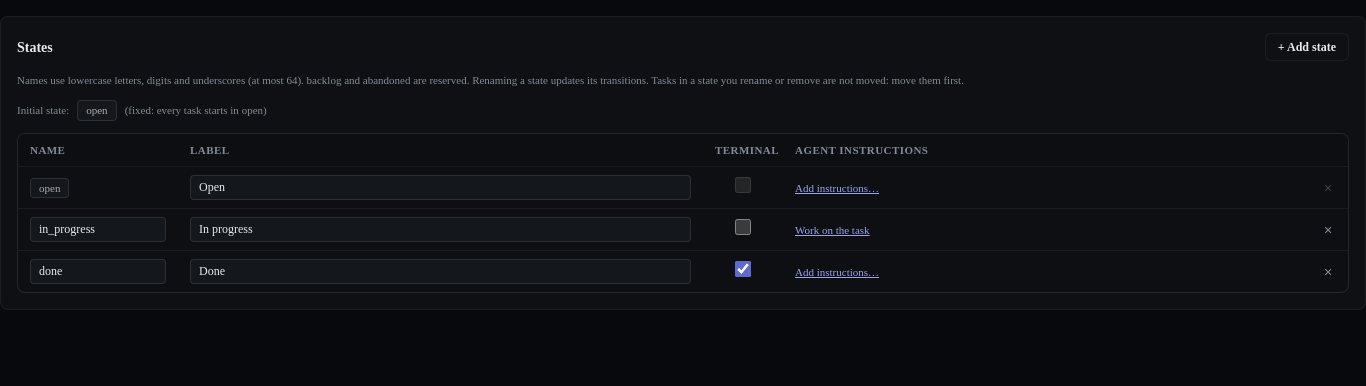
StatesTable: name validation (mirrors the backend) › clicking a remove button drops a pending invalid name (row indexes shift)
Replace the text in the field named "State name for row 2" with "QA" at (98, 230), box [30,217,166,242]
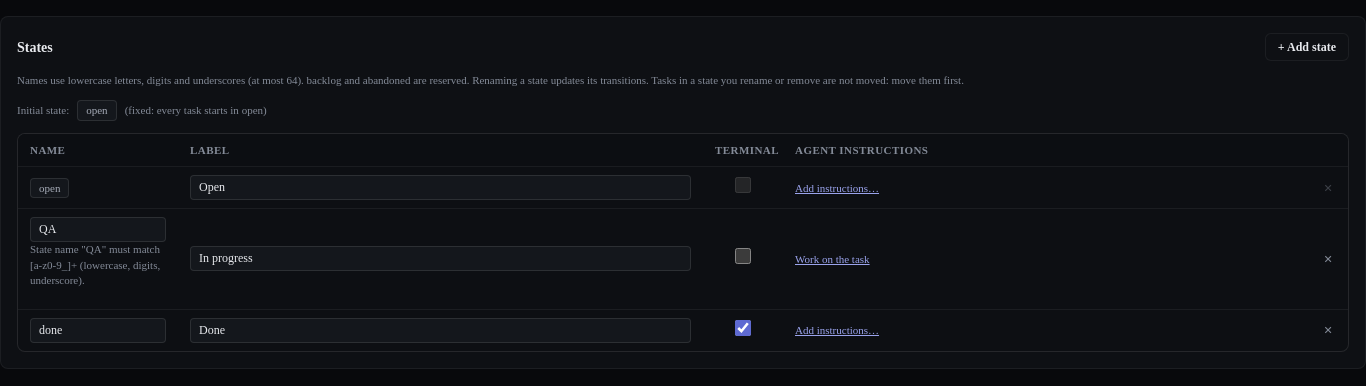
Expected: the message "State name \"QA\" must match [a-z0-9_]+ (lowercase, digits, underscore)." is shown, [30,242,166,289]
Click the 3rd button titled "Remove state done" at (1328, 331), box [1323,324,1333,337]
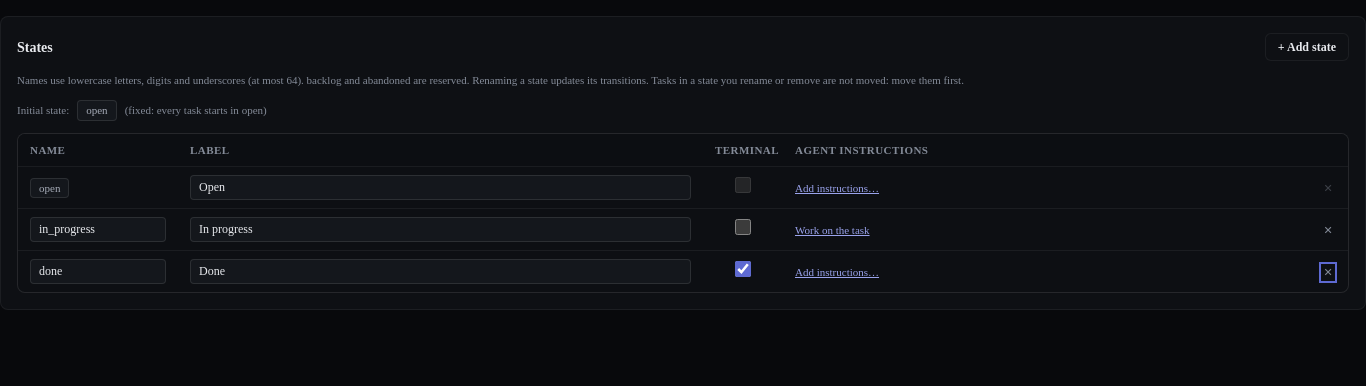
Expected: the message "State name \"QA\" must match [a-z0-9_]+ (lowercase, digits, underscore)." is gone
Expected: the field named "State name for row 2" holds "in_progress", [30,217,166,242]
